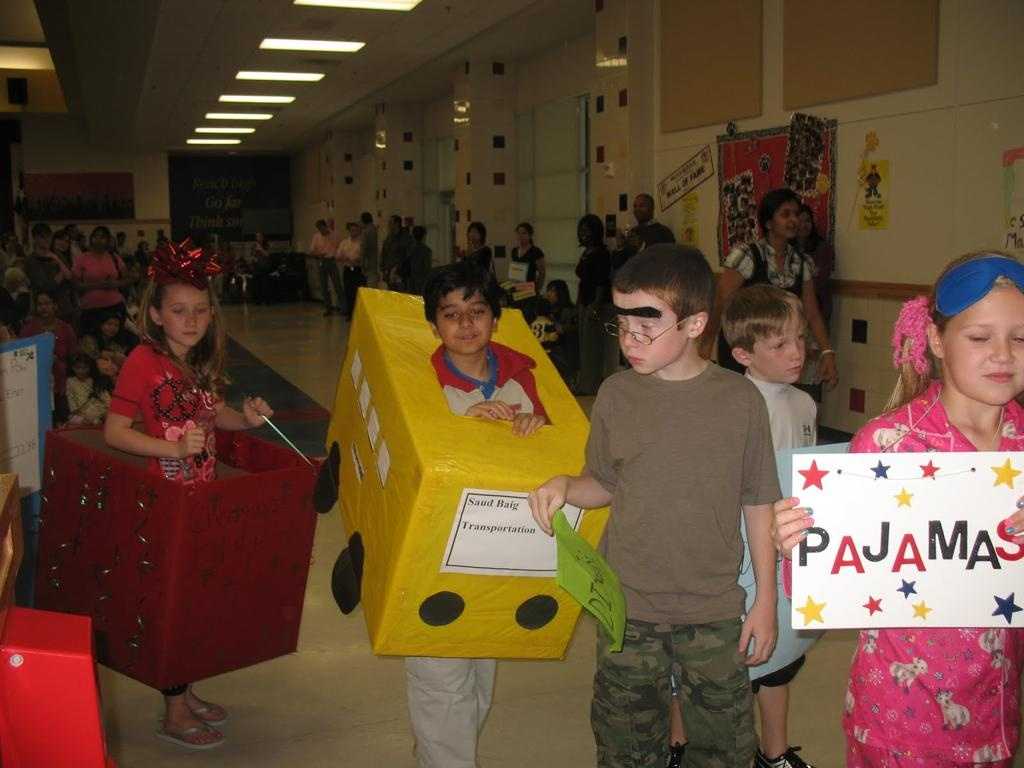human_face: (946, 297, 1024, 405), (612, 290, 686, 374), (435, 290, 493, 352), (749, 321, 805, 383), (161, 284, 209, 346), (773, 204, 799, 238), (632, 197, 650, 221), (794, 214, 812, 236), (36, 294, 52, 316), (102, 319, 118, 337), (579, 223, 591, 243), (54, 234, 68, 250), (91, 231, 105, 247), (74, 362, 88, 378), (546, 286, 558, 304), (516, 226, 528, 243), (36, 232, 48, 248), (468, 226, 478, 242), (6, 236, 16, 250), (68, 228, 78, 238), (350, 225, 358, 236), (387, 218, 395, 228), (106, 238, 114, 246), (318, 224, 326, 232), (118, 235, 124, 243), (256, 233, 262, 241)
